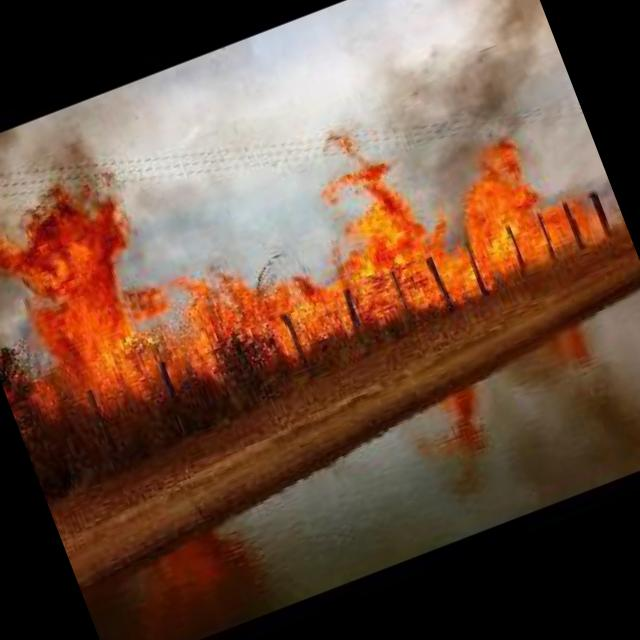fire: (0, 0, 617, 469)
